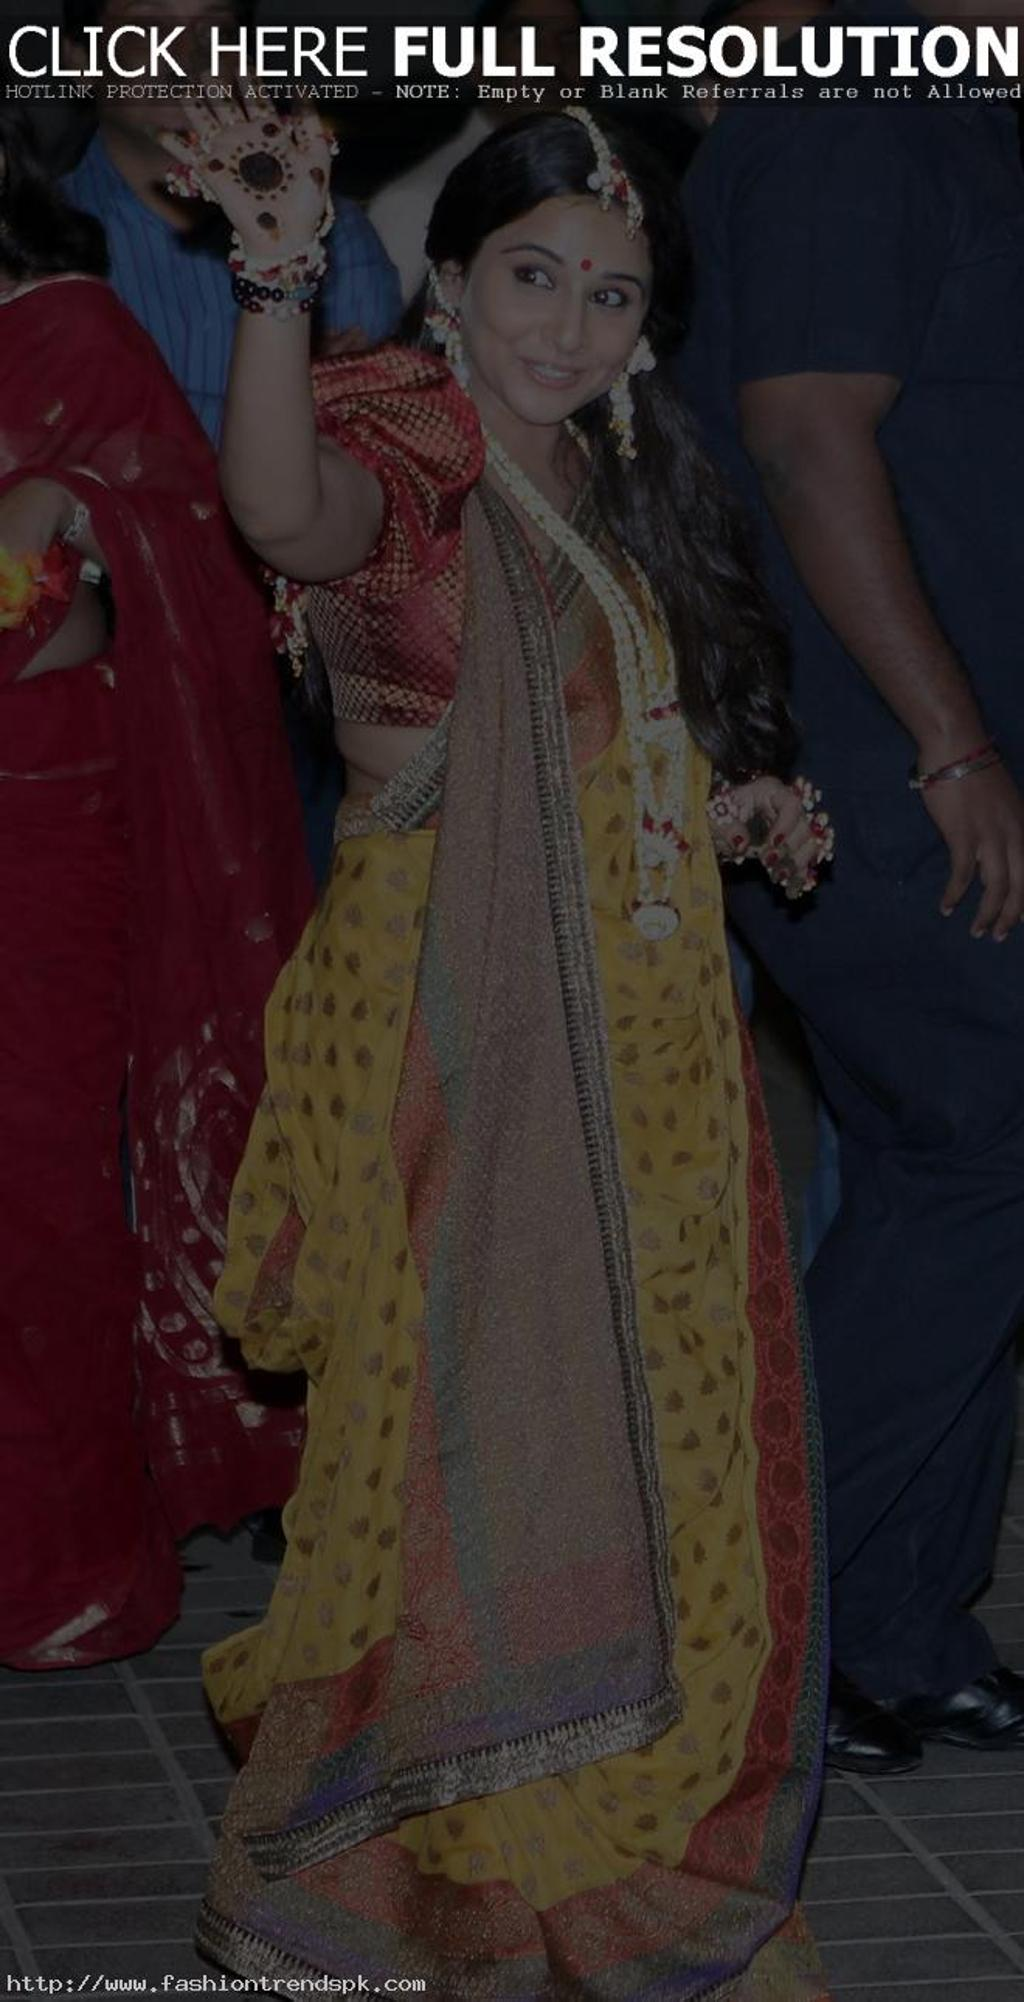face: (461, 180, 660, 422)
